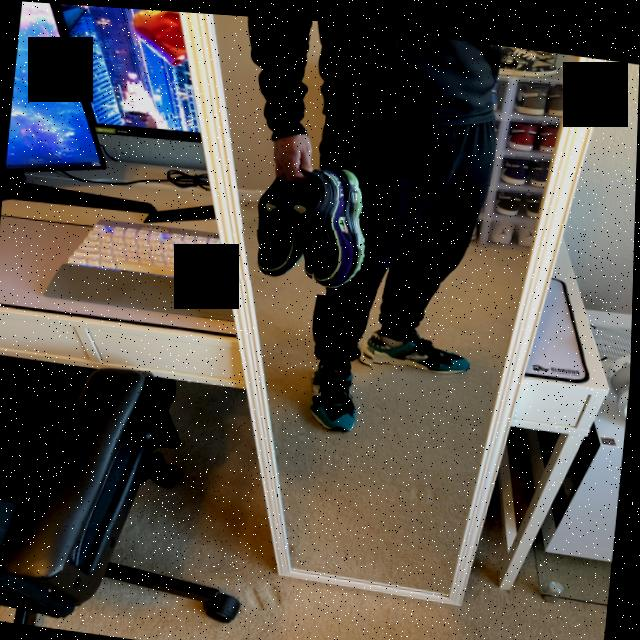shoe: (296, 153, 380, 296), (238, 157, 325, 285), (348, 307, 493, 383), (298, 330, 377, 439)
